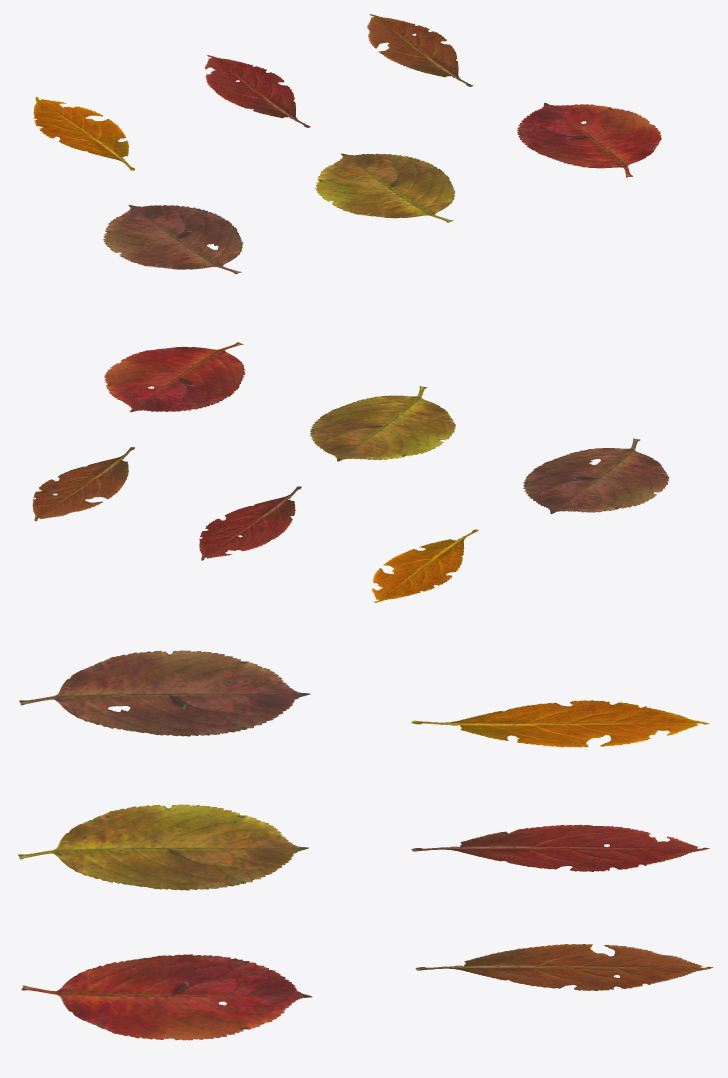
Rendered from leaf1.fbx.
The picture shows the model from 3 angles, top to bottom: view 1: azimuth 30°, elevation 25°; view 2: azimuth 150°, elevation 25°; view 3: azimuth 270°, elevation 25°; orthographic projection. The views are drawn at different scales.
Parts seen in each view (by area): view 1: leaf6, leaf5, leaf4, leaf1, leaf2, leaf3; view 2: leaf6, leaf5, leaf4, leaf1, leaf2, leaf3; view 3: leaf5, leaf6, leaf4, leaf1, leaf2, leaf3.
Boxes of the visible parts, x1,y1,x2,y2 form: leaf6: (517,102,661,177); leaf5: (315,153,455,222); leaf4: (103,204,243,274); leaf1: (204,55,310,127); leaf2: (367,14,473,86); leaf3: (33,96,134,170); leaf6: (104,342,245,412); leaf5: (310,386,455,461); leaf4: (523,438,669,514); leaf1: (199,486,301,560); leaf2: (32,447,134,521); leaf3: (371,529,478,602); leaf5: (18,804,308,890); leaf6: (21,954,312,1040); leaf4: (19,650,310,736); leaf1: (411,824,709,871); leaf2: (415,944,712,990); leaf3: (411,700,709,747).
Bounding box in the file's own units: 33.51 × 2.22e-15 × 22.99.
